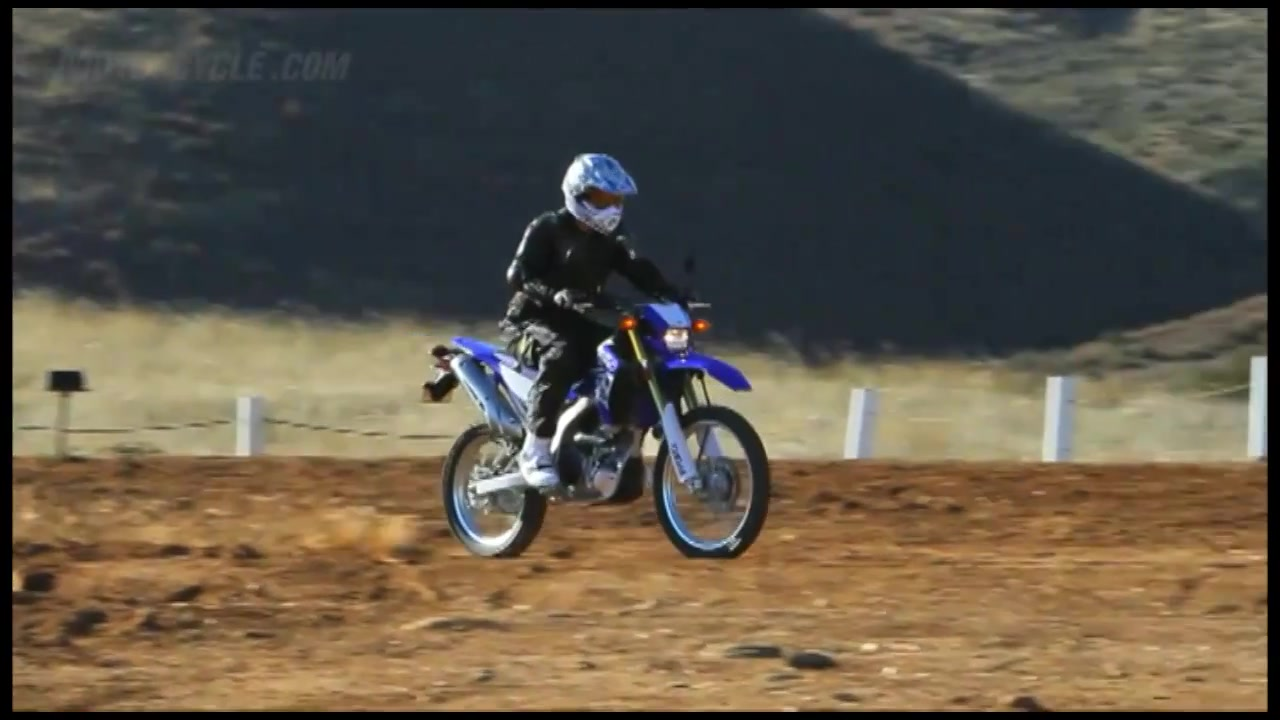motorbike: (421, 268, 781, 564)
